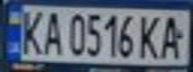0: (63, 9, 87, 56)
1: (100, 11, 121, 57)
5: (84, 10, 103, 57)
6: (118, 11, 139, 58)
A: (157, 12, 187, 61), (39, 8, 66, 56)
K: (15, 6, 45, 56), (136, 11, 163, 60)
